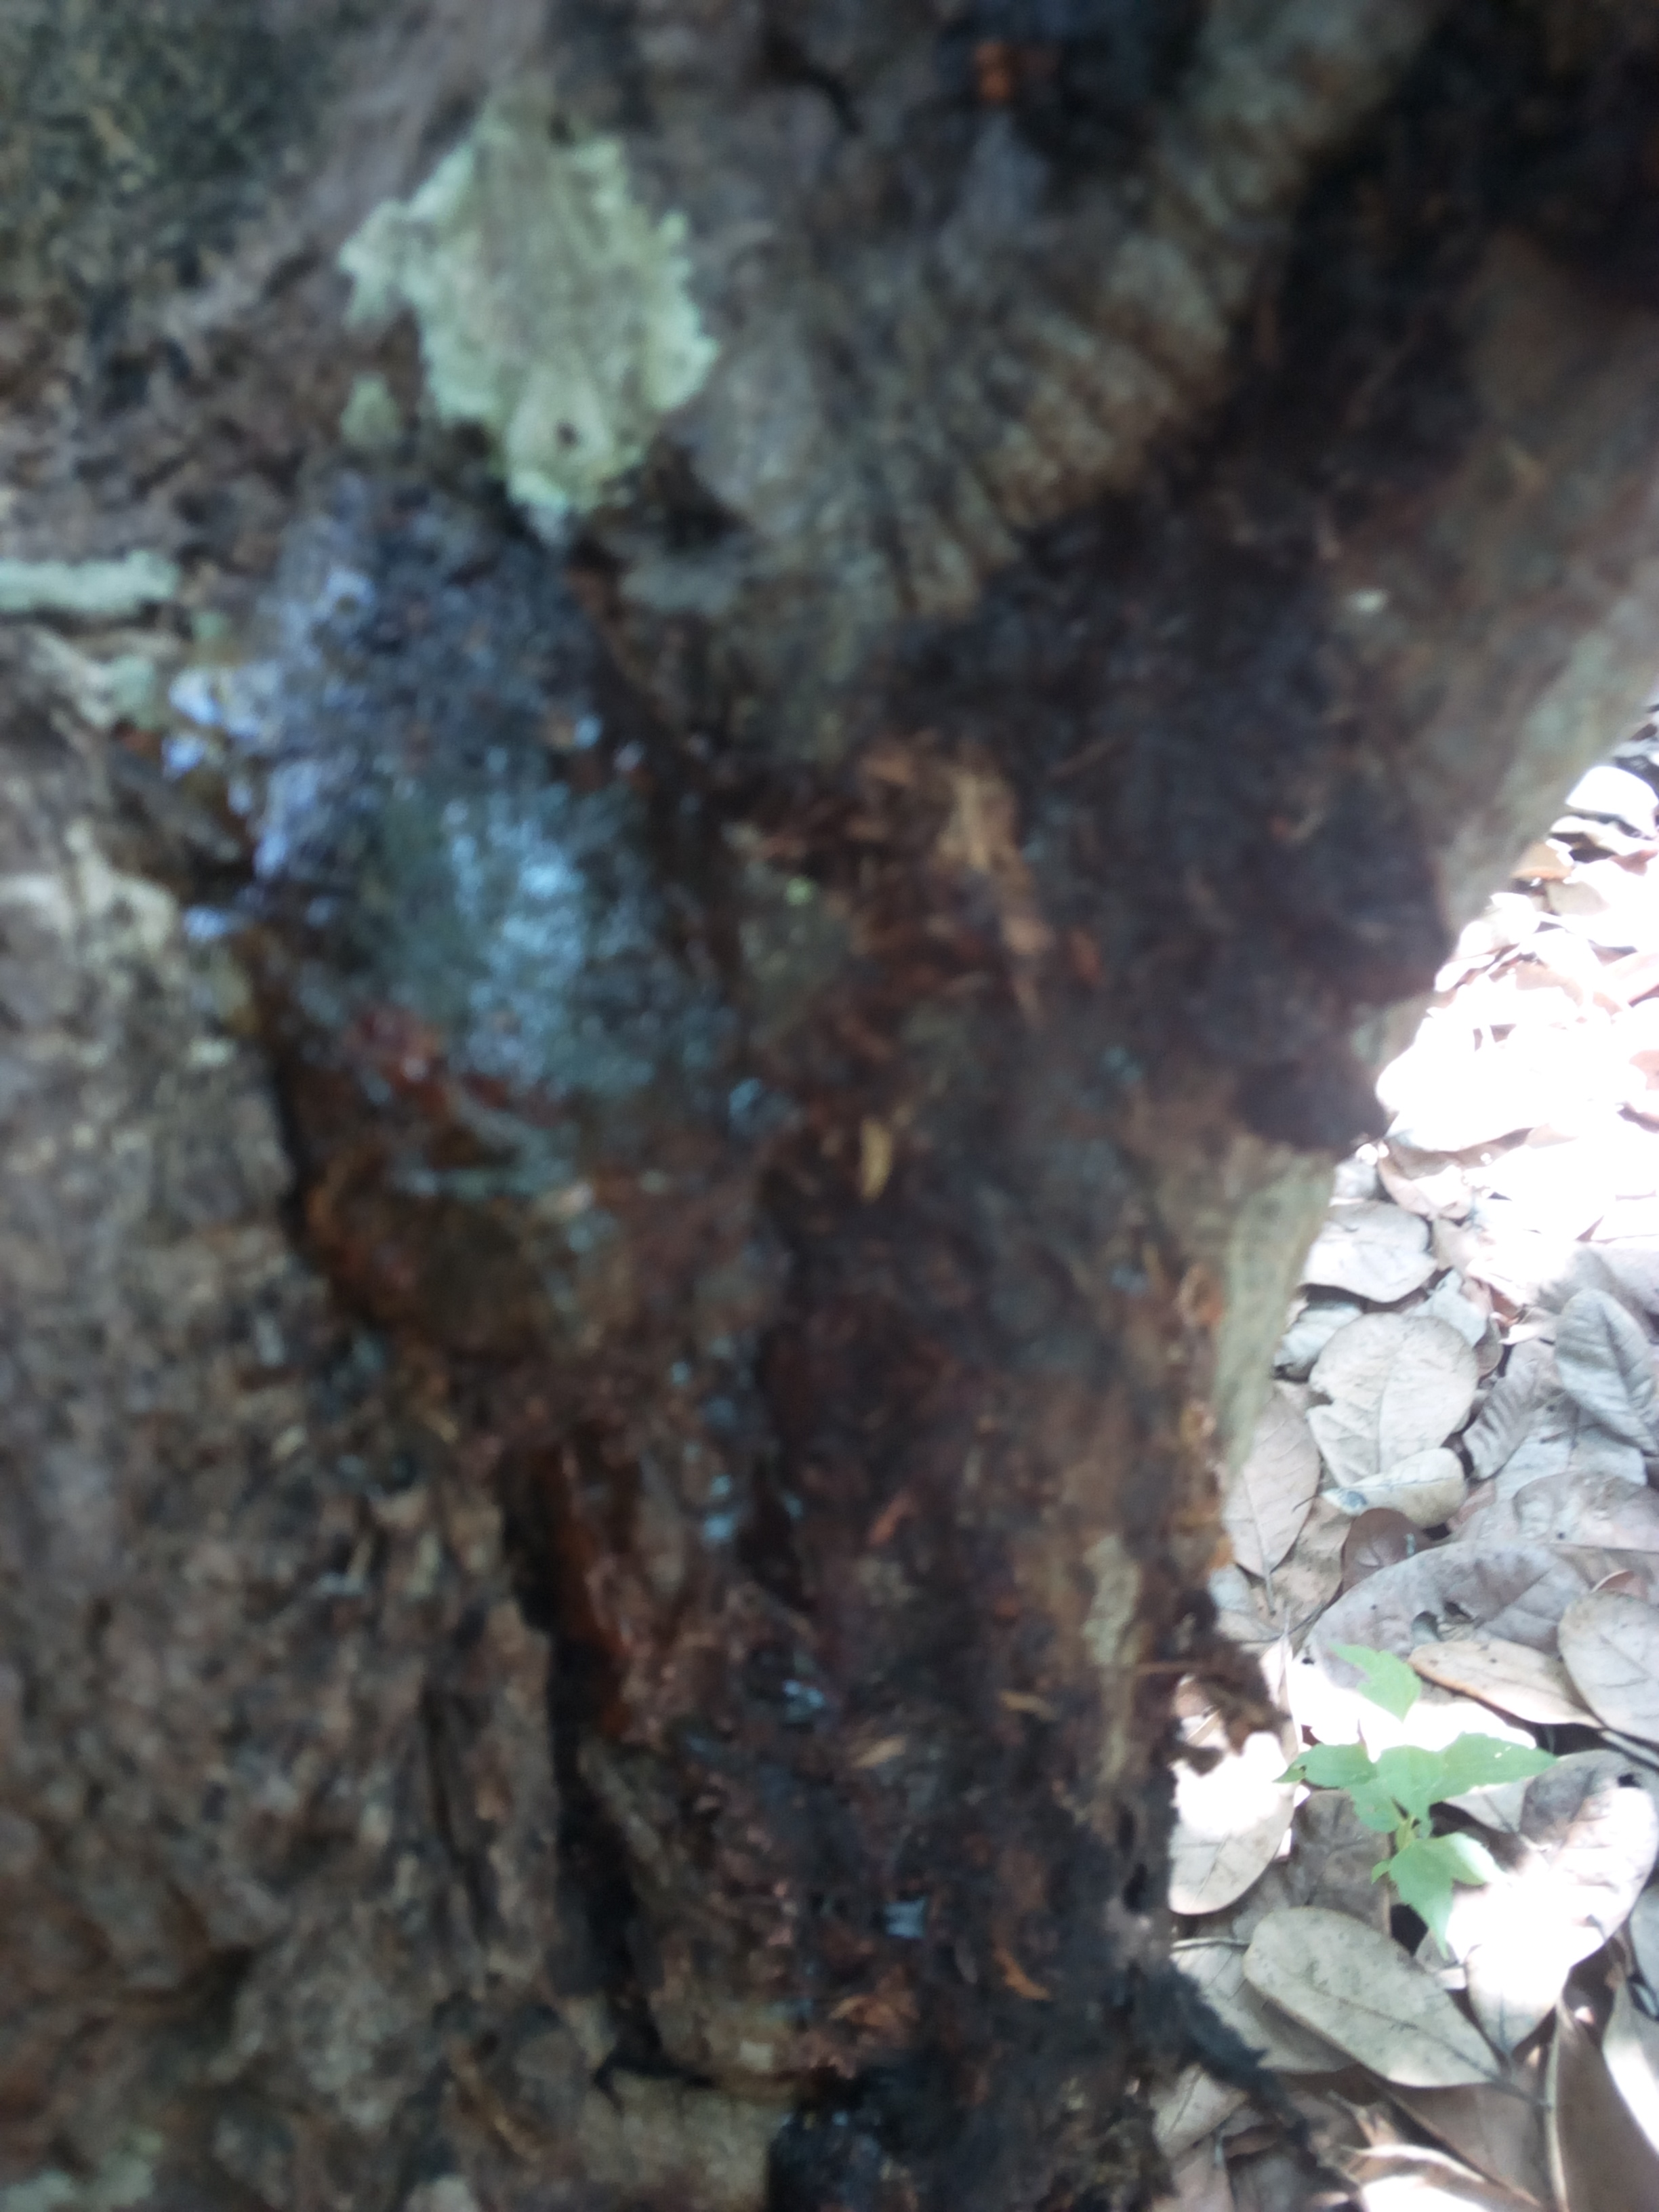Gommose: (260, 618, 1206, 2212)
